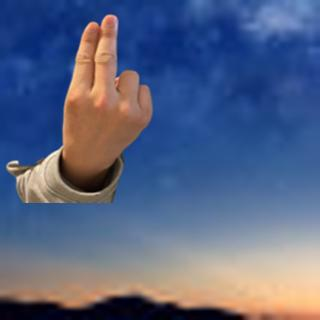DHAVE: (57, 10, 156, 175)
